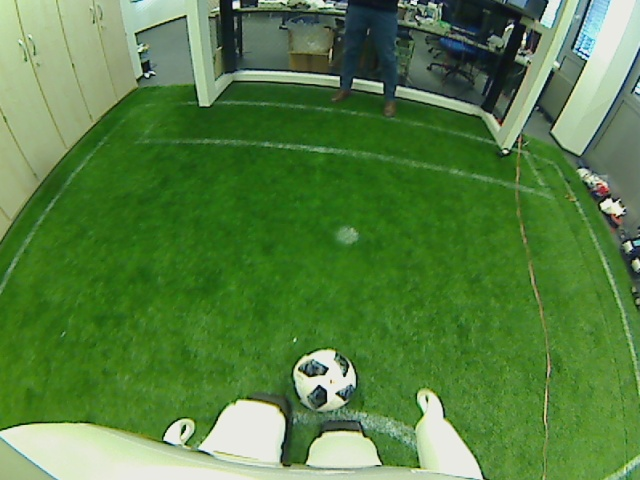ball: (289, 344, 359, 414)
